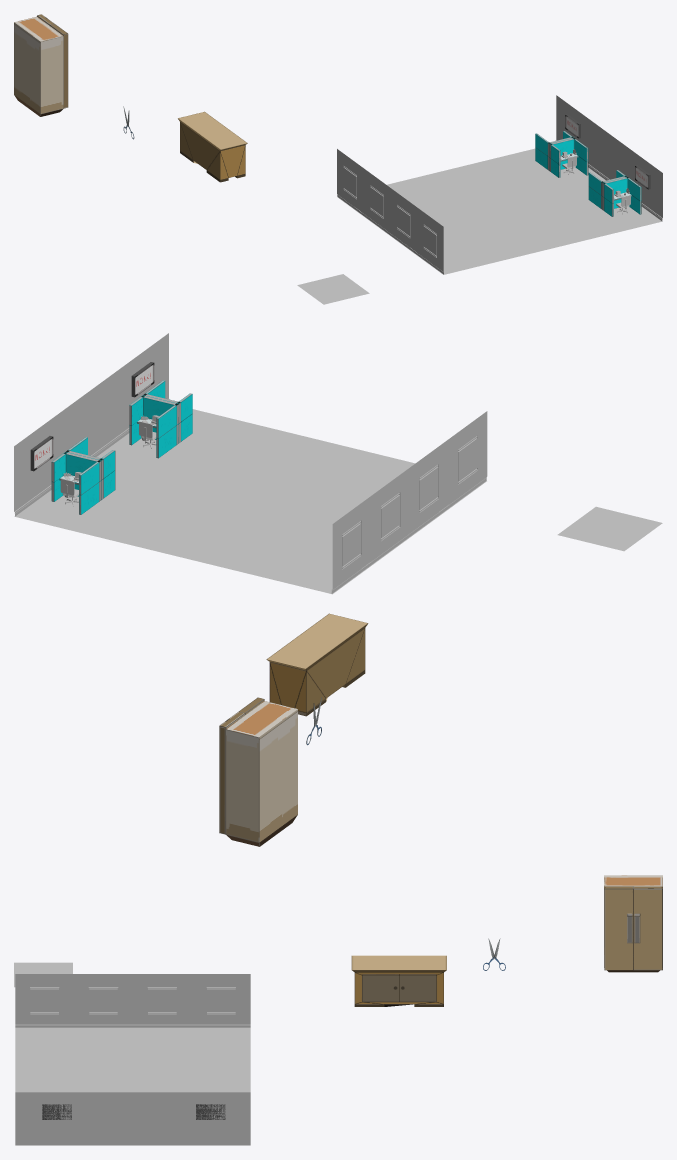
File: CorredorDecorado.fbx
The picture shows the model from 3 angles, top to bottom: view 1: azimuth 30°, elevation 25°; view 2: azimuth 150°, elevation 25°; view 3: azimuth 270°, elevation 25°; orthographic projection. The views are drawn at different scales.
Visible parts, largest first — view 1: Hall, CabinetBig, CabinetSmall, Cubicle, Textura, WhiteboradSmall; view 2: Hall, CabinetBig, CabinetSmall, Cubicle, Textura, WhiteboradSmall; view 3: Hall, CabinetBig, CabinetSmall, WhiteboradSmall, Textura.
Boxes of the visible parts, x1,y1,x2,y2 form: Hall: (337, 95, 662, 274); CabinetBig: (14, 14, 68, 116); CabinetSmall: (178, 111, 247, 182); Cubicle: (535, 131, 641, 216); Textura: (297, 274, 369, 304); WhiteboradSmall: (565, 114, 650, 189); Hall: (14, 333, 487, 594); CabinetBig: (219, 697, 297, 846); CabinetSmall: (266, 613, 368, 716); Cubicle: (51, 380, 192, 514); Textura: (557, 506, 662, 551); WhiteboradSmall: (30, 362, 154, 471); Hall: (15, 974, 250, 1145); CabinetBig: (604, 875, 662, 972); CabinetSmall: (351, 955, 446, 1006); WhiteboradSmall: (42, 1104, 225, 1119); Textura: (14, 962, 72, 987).
Size of the model in its own units: 3080 by 651 by 4407.
